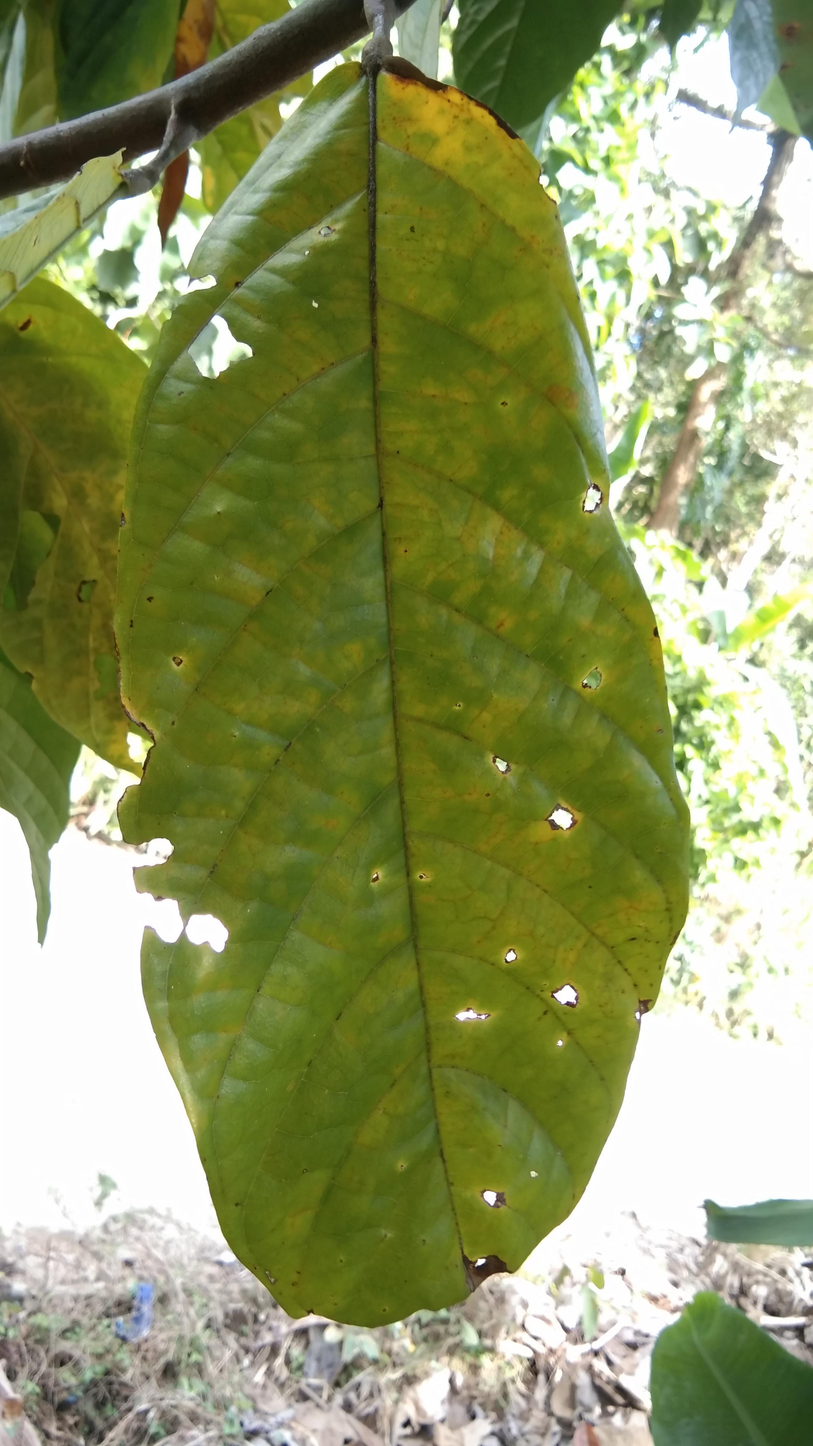deficiencia_potasio: (115, 52, 695, 1331)
